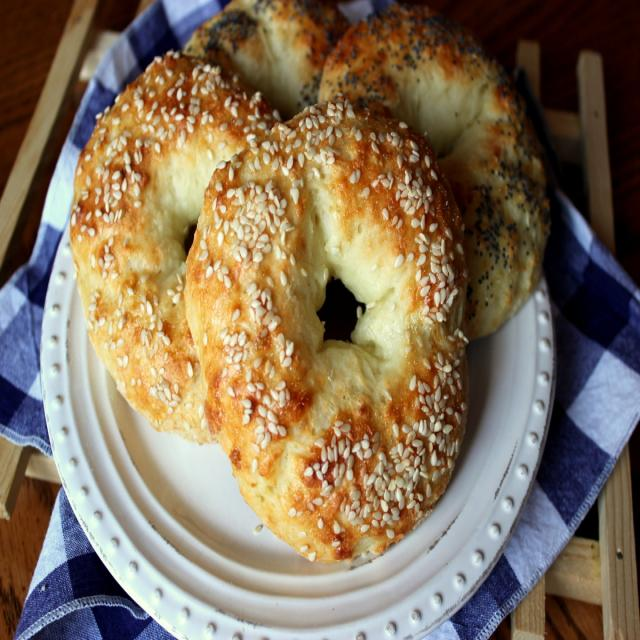Bagel: (185, 96, 469, 562), (70, 52, 279, 442), (319, 6, 550, 339)
